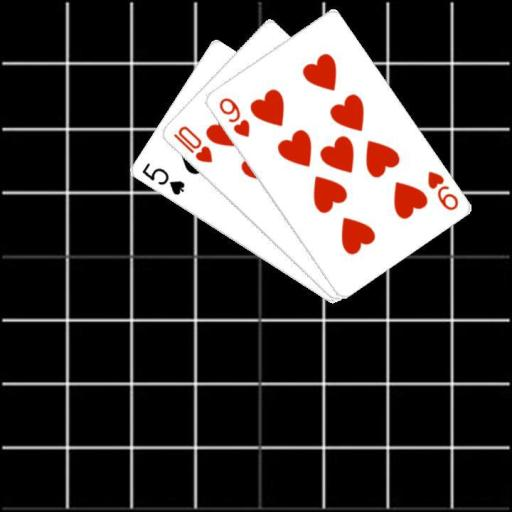10H: (170, 123, 214, 165)
5S: (138, 160, 186, 197)
9H: (423, 168, 460, 212), (215, 94, 251, 139)
